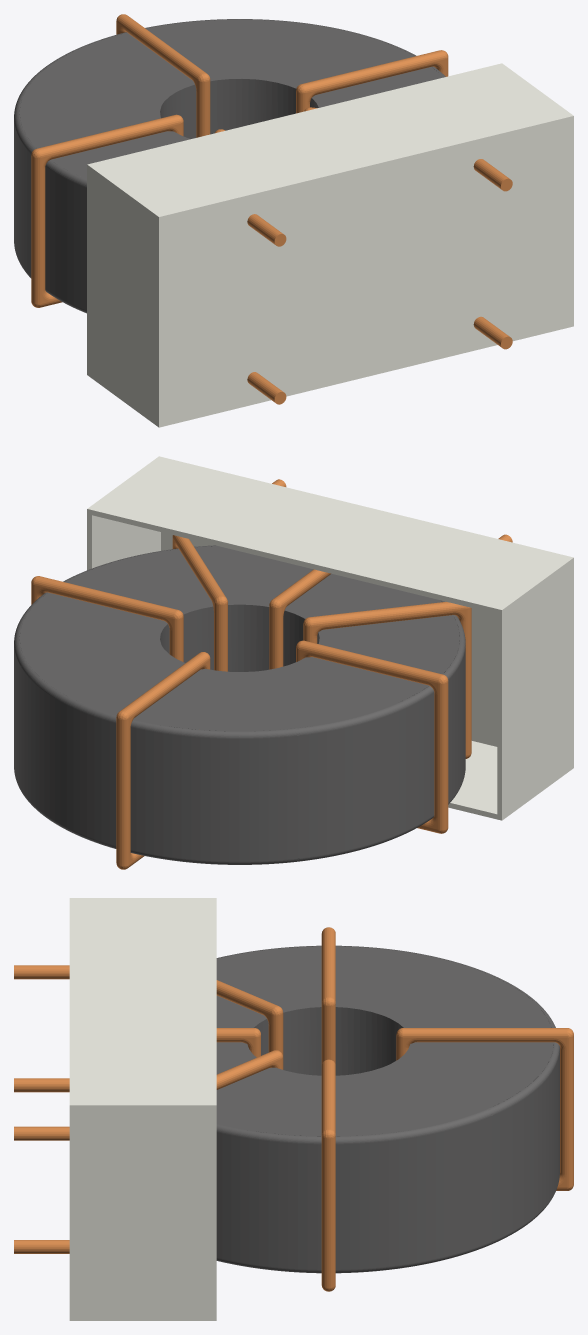
The model's file is L_CommonMode_Toroid_Vertical_L41.9mm_W20.3mm_Px15.24mm_Py22.86mm_Bourns_8100.glb.
3 views of the same model, one above another, from view 1: azimuth 30°, elevation 25°; view 2: azimuth 150°, elevation 25°; view 3: azimuth 270°, elevation 25° (orthographic). The views are drawn at different scales.
Parts seen in each view (by area): view 1: Shape_IndexedFaceSet.015, Shape_IndexedFaceSet.001, Shape_IndexedFaceSet.002, Shape_IndexedFaceSet.160, Shape_IndexedFaceSet.014, Shape_IndexedFaceSet.116, Shape_IndexedFaceSet.067, Shape_IndexedFaceSet.196, Shape_IndexedFaceSet.158, Shape_IndexedFaceSet.113, Shape_IndexedFaceSet.121, Shape_IndexedFaceSet.293 (+10 smaller); view 2: Shape_IndexedFaceSet.101, Shape_IndexedFaceSet.001, Shape_IndexedFaceSet.121, Shape_IndexedFaceSet.002, Shape_IndexedFaceSet.196, Shape_IndexedFaceSet.067, Shape_IndexedFaceSet.160, Shape_IndexedFaceSet.116, Shape_IndexedFaceSet.293, Shape_IndexedFaceSet.078, Shape_IndexedFaceSet.167, Shape_IndexedFaceSet (+28 smaller); view 3: Shape_IndexedFaceSet.004, Shape_IndexedFaceSet.001, Shape_IndexedFaceSet.069, Shape_IndexedFaceSet.080, Shape_IndexedFaceSet.101, Shape_IndexedFaceSet.116, Shape_IndexedFaceSet.067, Shape_IndexedFaceSet.196, Shape_IndexedFaceSet.078, Shape_IndexedFaceSet.160, Shape_IndexedFaceSet.293, Shape_IndexedFaceSet.274 (+24 smaller).
Part boxes in pixels (<box>): Shape_IndexedFaceSet.015: <box>164,122,568,421</box>; Shape_IndexedFaceSet.001: <box>87,63,570,214</box>; Shape_IndexedFaceSet.002: <box>87,164,156,425</box>; Shape_IndexedFaceSet.160: <box>28,32,194,102</box>; Shape_IndexedFaceSet.014: <box>159,116,573,427</box>; Shape_IndexedFaceSet.116: <box>146,19,295,81</box>; Shape_IndexedFaceSet.067: <box>262,23,414,88</box>; Shape_IndexedFaceSet.196: <box>19,88,161,148</box>; Shape_IndexedFaceSet.158: <box>45,166,86,310</box>; Shape_IndexedFaceSet.113: <box>210,79,259,134</box>; Shape_IndexedFaceSet.121: <box>14,102,31,276</box>; Shape_IndexedFaceSet.293: <box>51,131,190,179</box>; Shape_IndexedFaceSet.101: <box>21,669,298,861</box>; Shape_IndexedFaceSet.001: <box>87,458,570,609</box>; Shape_IndexedFaceSet.121: <box>298,692,434,858</box>; Shape_IndexedFaceSet.002: <box>502,560,570,820</box>; Shape_IndexedFaceSet.196: <box>262,657,428,727</box>; Shape_IndexedFaceSet.067: <box>19,592,167,661</box>; Shape_IndexedFaceSet.160: <box>133,669,295,731</box>; Shape_IndexedFaceSet.116: <box>28,648,185,715</box>; Shape_IndexedFaceSet.293: <box>318,615,459,674</box>; Shape_IndexedFaceSet.078: <box>65,549,213,614</box>; Shape_IndexedFaceSet.167: <box>194,546,313,606</box>; Shape_IndexedFaceSet: <box>87,509,501,820</box>; Shape_IndexedFaceSet.004: <box>75,1105,216,1320</box>; Shape_IndexedFaceSet.001: <box>75,898,216,1105</box>; Shape_IndexedFaceSet.069: <box>335,1116,492,1269</box>; Shape_IndexedFaceSet.080: <box>216,1132,321,1269</box>; Shape_IndexedFaceSet.101: <box>492,1010,559,1240</box>; Shape_IndexedFaceSet.116: <box>390,1042,553,1108</box>; Shape_IndexedFaceSet.067: <box>335,1067,486,1136</box>; Shape_IndexedFaceSet.196: <box>335,946,486,1015</box>; Shape_IndexedFaceSet.078: <box>216,1067,321,1136</box>; Shape_IndexedFaceSet.160: <box>390,974,551,1027</box>; Shape_IndexedFaceSet.293: <box>216,946,321,1012</box>; Shape_IndexedFaceSet.274: <box>335,1007,386,1075</box>.
Size of the model in its own units: 16.5 by 8 by 18.84.
